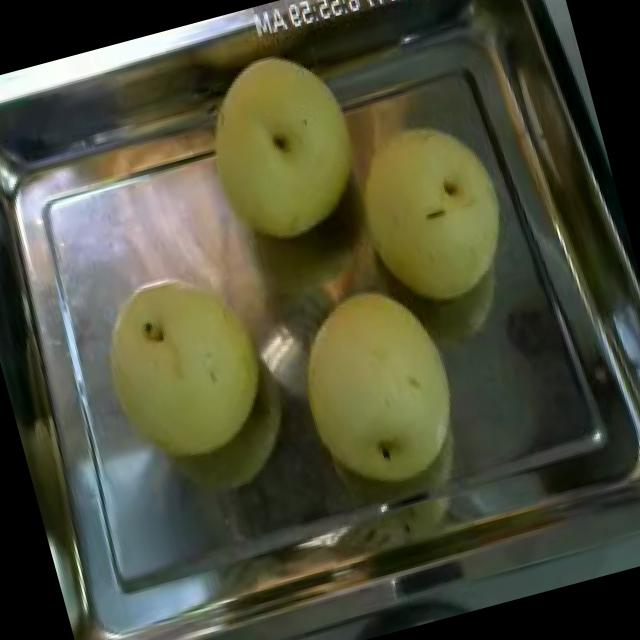Fruit: (70, 238, 312, 486), (173, 23, 387, 266), (320, 96, 538, 330), (272, 268, 481, 507)
